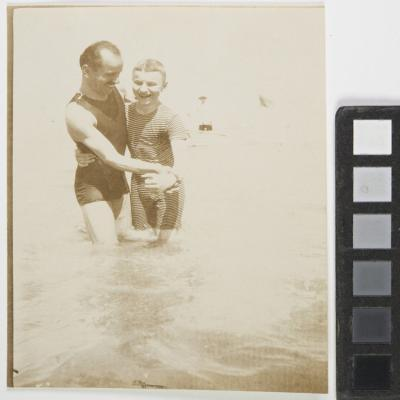photos_negatives: (0, 0, 327, 400)
